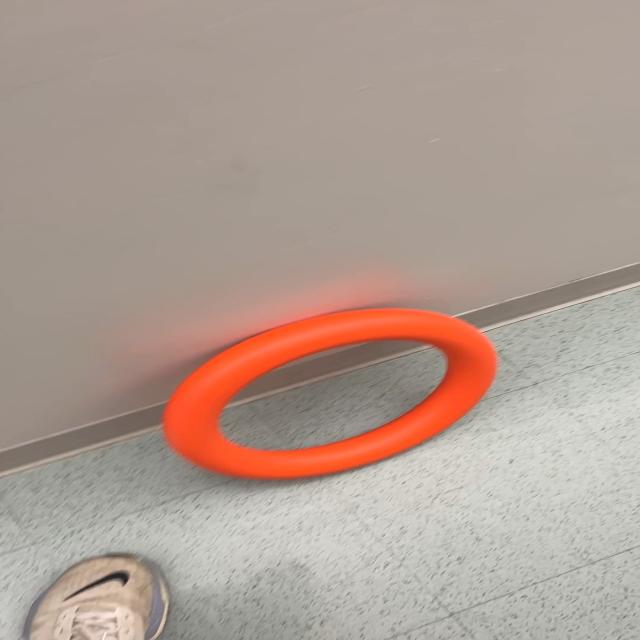note: (160, 306, 500, 482)
